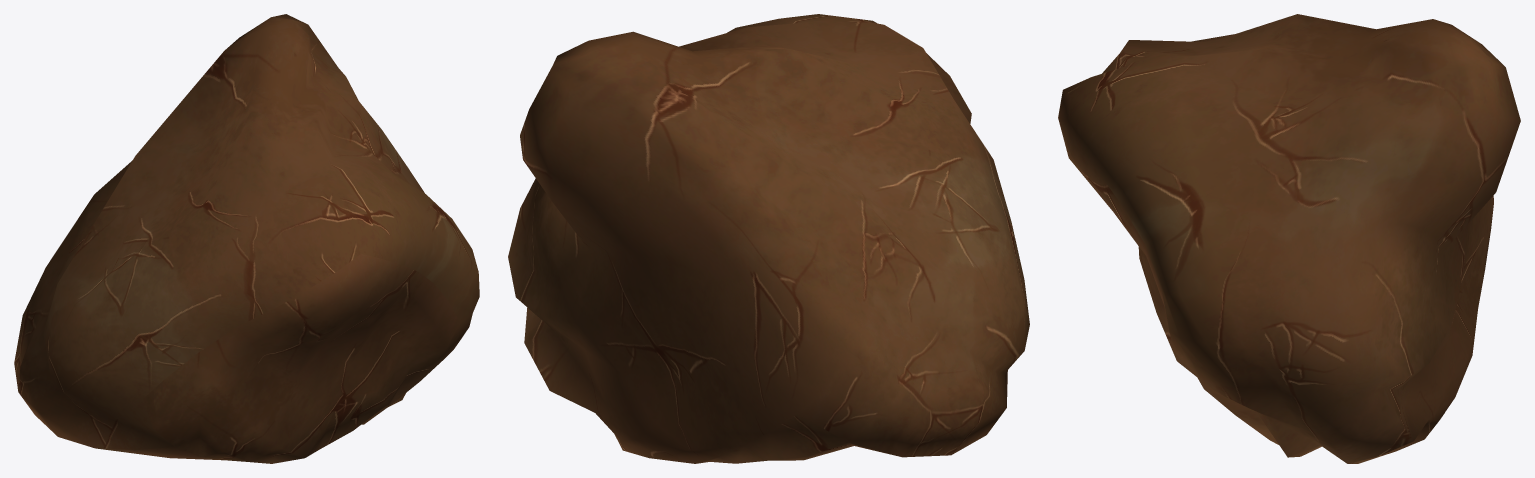
File: CA_OPE_Props_Caverna_Pedra_Grande_002.fbx
3 views of the same model, side by side, from view 1: azimuth 30°, elevation 25°; view 2: azimuth 150°, elevation 25°; view 3: azimuth 270°, elevation 25° (orthographic). The views are drawn at different scales.
Visible parts, largest first — view 1: CA_OPE_Props_Caverna_Pedra_Grande_002; view 2: CA_OPE_Props_Caverna_Pedra_Grande_002; view 3: CA_OPE_Props_Caverna_Pedra_Grande_002.
Boxes of the visible parts, <box> form: CA_OPE_Props_Caverna_Pedra_Grande_002: <box>14,14,479,463</box>; CA_OPE_Props_Caverna_Pedra_Grande_002: <box>508,14,1029,463</box>; CA_OPE_Props_Caverna_Pedra_Grande_002: <box>1058,14,1520,463</box>.
Size of the model in its own units: 20.21 by 17.02 by 16.94.
